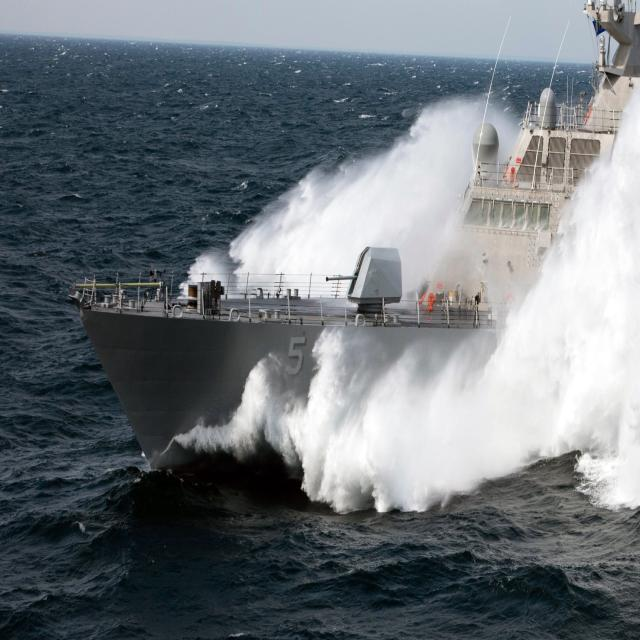navalvessels: (65, 5, 640, 477)
